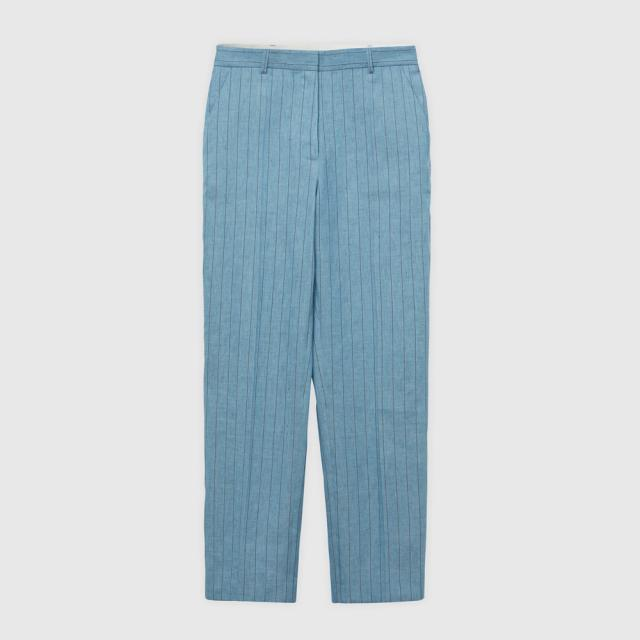long-pants: (202, 45, 433, 609)
